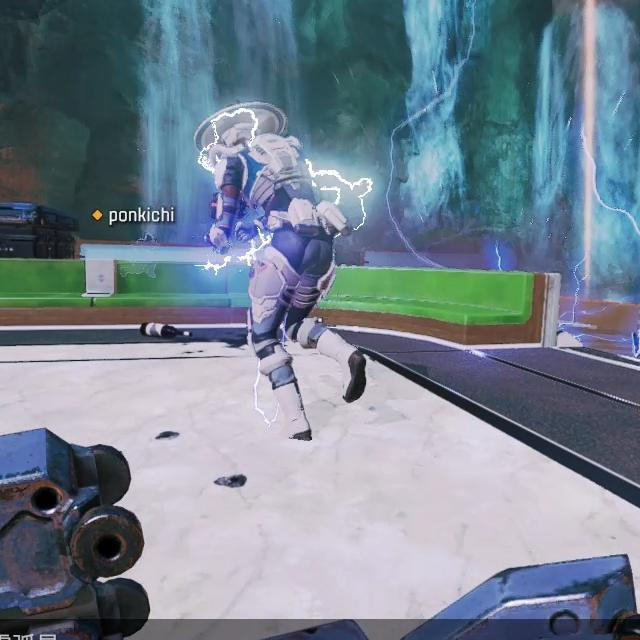avatar: (191, 100, 340, 443)
